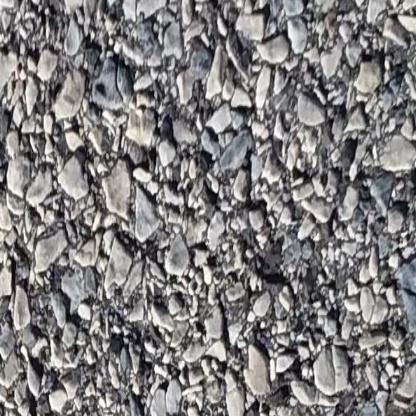Cracks: (366, 404, 416, 416)
